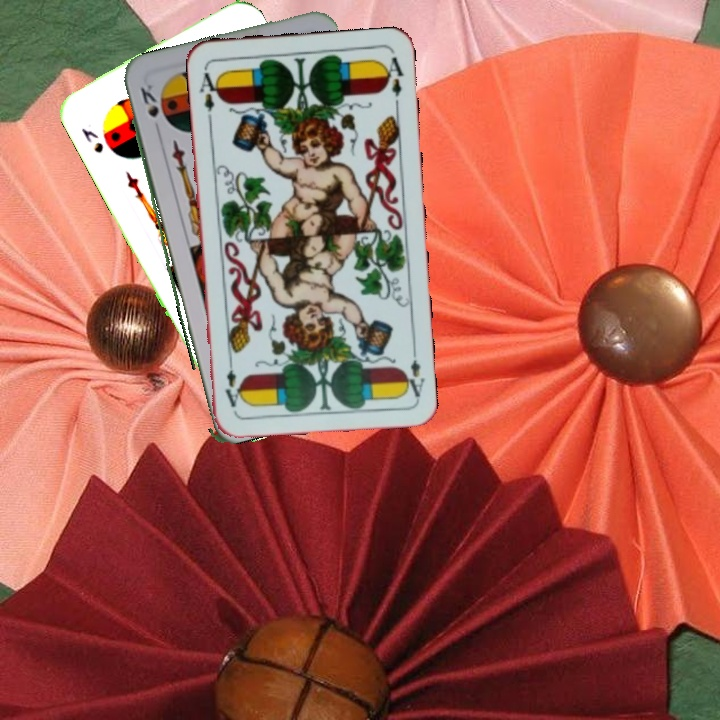EA: (195, 64, 223, 123), (399, 356, 427, 400)
SK: (136, 80, 161, 120), (77, 124, 107, 156)
